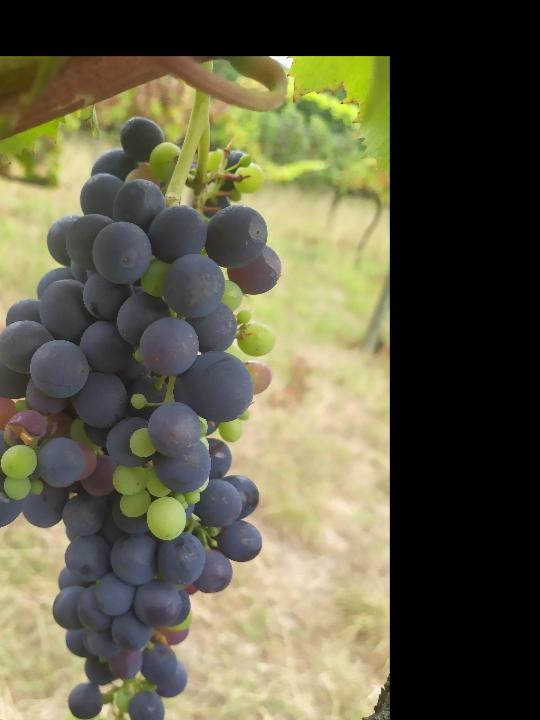grape: (0, 114, 284, 720)
